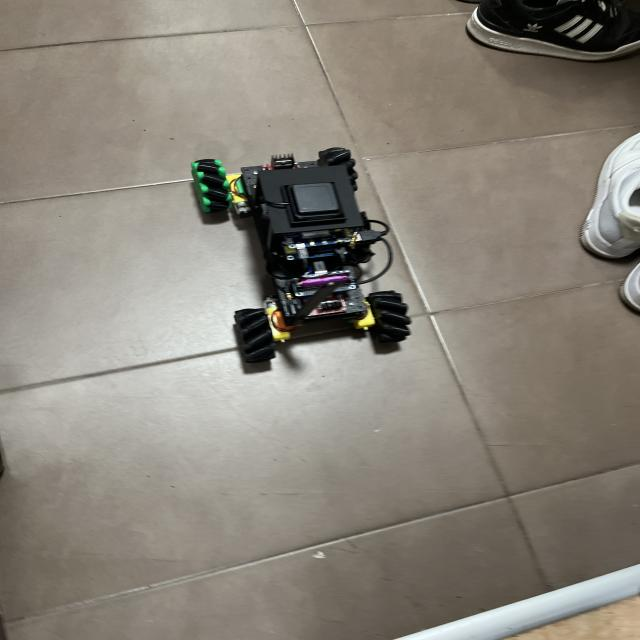robot: (192, 148, 411, 363)
